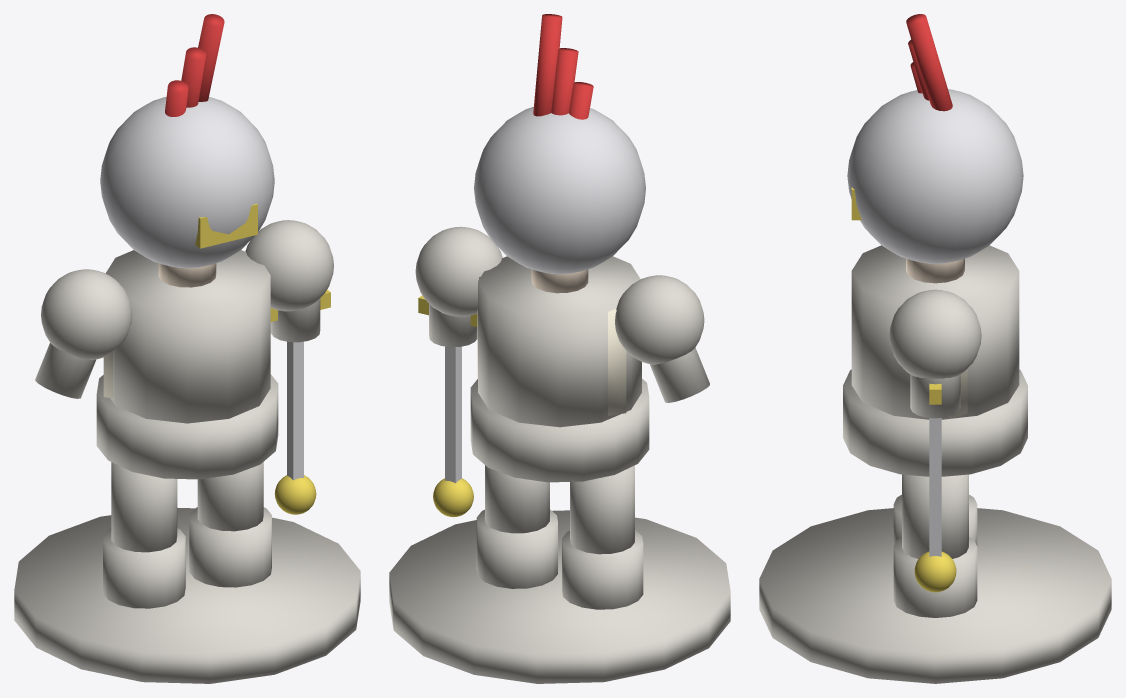
File: Ngua.glb
The picture shows the model from 3 angles, left to right: view 1: azimuth 30°, elevation 25°; view 2: azimuth 150°, elevation 25°; view 3: azimuth 270°, elevation 25°; orthographic projection. The views are drawn at different scales.
Parts seen in each view (by area): view 1: Knight; view 2: Knight; view 3: Knight.
Part boxes in pixels (left/top/right/bottom): Knight: left=14, top=14, right=360, bottom=683; Knight: left=389, top=14, right=730, bottom=683; Knight: left=759, top=14, right=1111, bottom=683.
Bounding box in the file's own units: 0.84 × 1.58 × 0.84.
